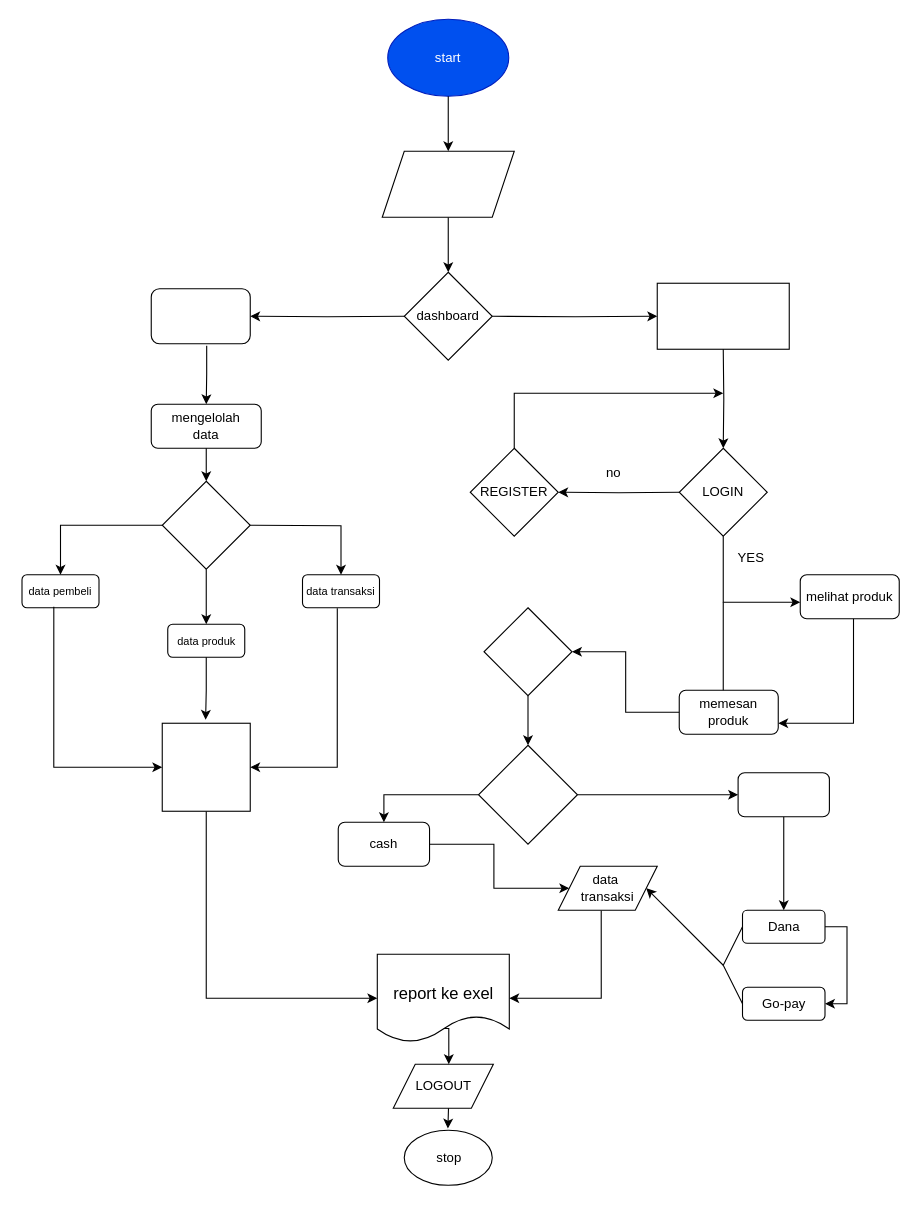
Some shapes in this 919 by 1205 pixel diagram are drawn without their labels. Here are the shapes that lost their labels. From the top down, the box of each, then its label:
(381, 150, 514, 217): form login
(150, 288, 250, 344): masuk sebagai admin
(656, 282, 789, 349): masuk sebagai user
(161, 480, 250, 569): olah data
(483, 607, 572, 696): transaksi
(161, 722, 250, 811): edit hapus tambah
(477, 744, 578, 844): metode pembayaran
(737, 772, 829, 817): e-wallet
